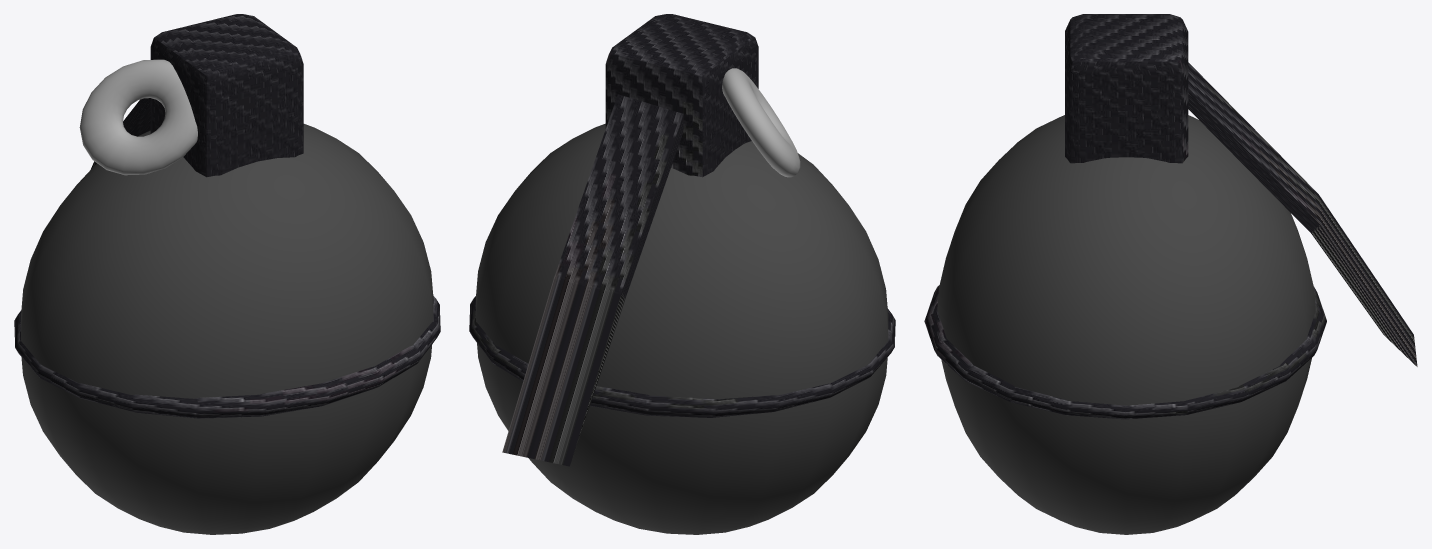
The model's file is hand grenade.fbx.
3 views of the same model, side by side, from view 1: azimuth 30°, elevation 25°; view 2: azimuth 150°, elevation 25°; view 3: azimuth 270°, elevation 25° (orthographic).
Parts seen in each view (by area): view 1: polySurface15; view 2: polySurface15; view 3: polySurface15.
Boxes of the visible parts, x1,y1,x2,y2 form: polySurface15: (14, 14, 440, 534); polySurface15: (469, 14, 895, 534); polySurface15: (924, 14, 1417, 534).
Bounding box in the file's own units: 0.00962 × 0.0116 × 0.0107.
Materials: 3 (1 with a texture image).
